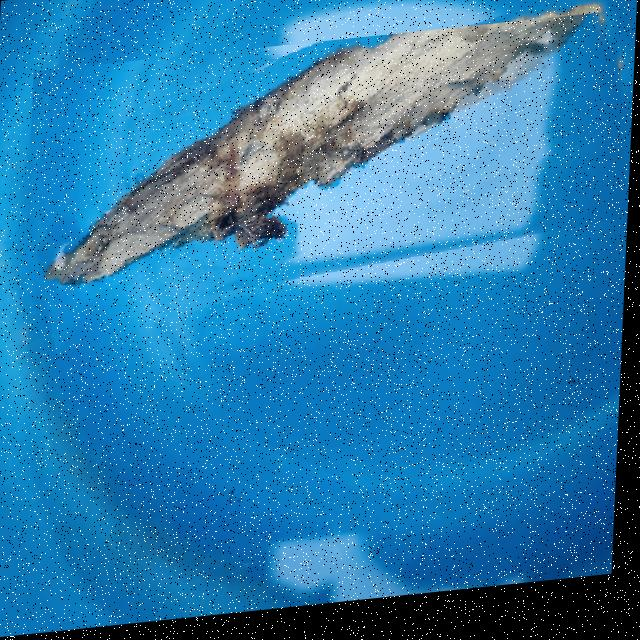litter: (24, 22, 636, 329)
